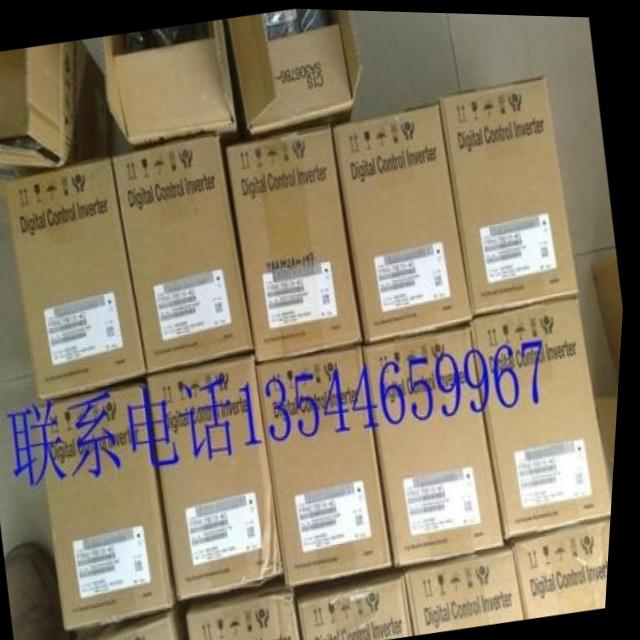box: (113, 131, 258, 376), (330, 99, 476, 341), (151, 345, 290, 599), (5, 154, 149, 399), (476, 290, 618, 537), (43, 380, 185, 626), (368, 317, 510, 563), (260, 339, 402, 585), (438, 71, 581, 315), (227, 124, 368, 361), (0, 39, 113, 200), (101, 19, 237, 149), (227, 7, 363, 136), (412, 540, 533, 631), (516, 514, 617, 614), (304, 568, 419, 640), (194, 572, 309, 640), (82, 601, 194, 640)
